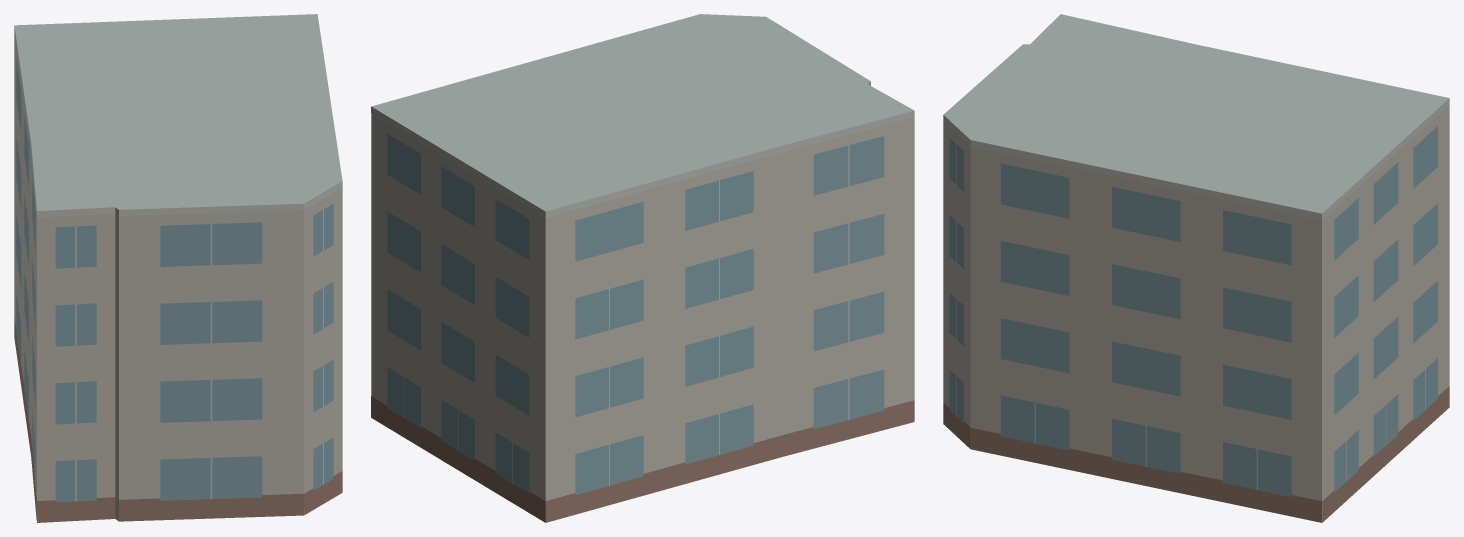
Rendered from survey-upis-32734734.glb.
The picture shows the model from 3 angles, left to right: view 1: azimuth 30°, elevation 25°; view 2: azimuth 150°, elevation 25°; view 3: azimuth 270°, elevation 25°; orthographic projection.
Parts seen in each view (by area): view 1: survey-upis-32734734.tmp; view 2: survey-upis-32734734.tmp; view 3: survey-upis-32734734.tmp.
Part boxes in pixels (box(x1,y1,x2,y2)): survey-upis-32734734.tmp: box(14, 14, 342, 522); survey-upis-32734734.tmp: box(371, 14, 914, 522); survey-upis-32734734.tmp: box(943, 14, 1449, 522).
Size of the model in its own units: 16.21 by 11.7 by 17.37.
